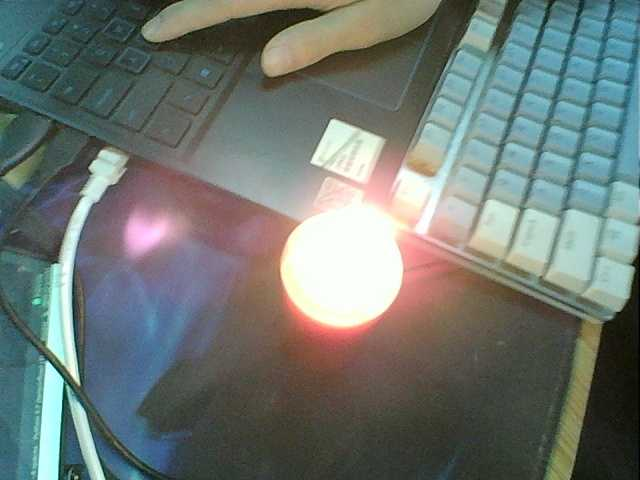candle: (278, 314, 359, 388)
fire: (290, 213, 393, 309)
